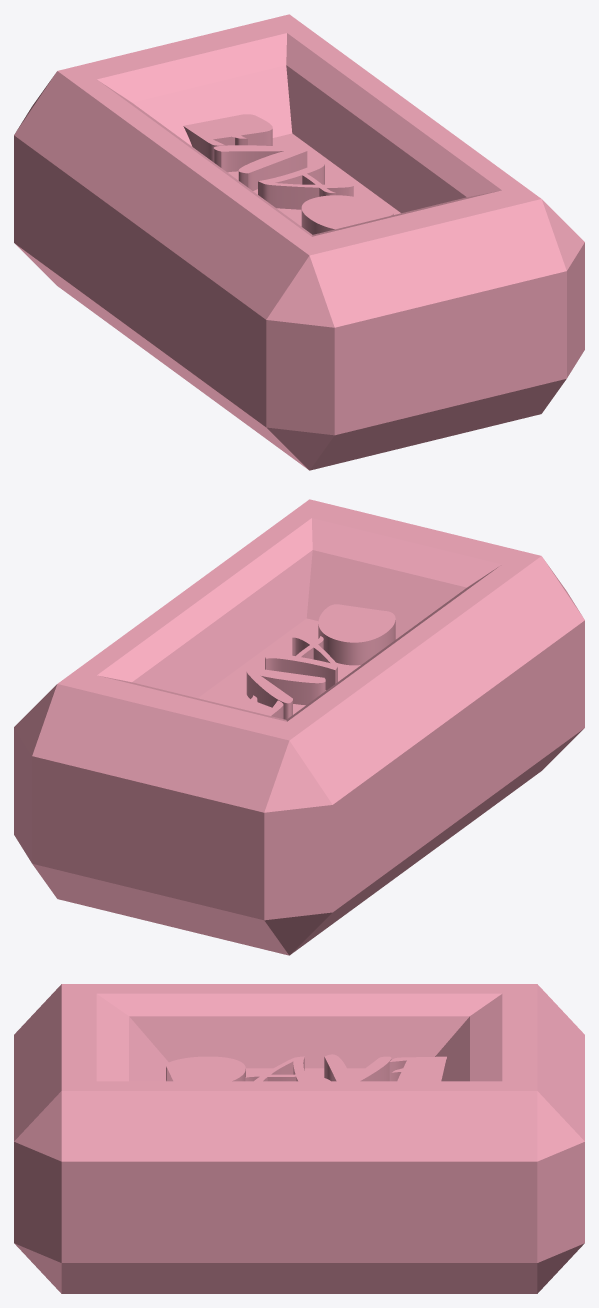
Rendered from SOAP 1.fbx.
3 renders of one model, top to bottom at view 1: azimuth 30°, elevation 25°; view 2: azimuth 150°, elevation 25°; view 3: azimuth 270°, elevation 25°, orthographic. The views are drawn at different scales.
Visible parts, largest first — view 1: typeMesh4; view 2: typeMesh4; view 3: typeMesh4.
Boxes of the visible parts, x1,y1,x2,y2 form: typeMesh4: (14, 14, 584, 470); typeMesh4: (14, 499, 584, 955); typeMesh4: (14, 984, 584, 1293).
Size of the model in its own units: 2.1 by 1.36 by 3.46.
Materials: 1 (1 with a texture image).
